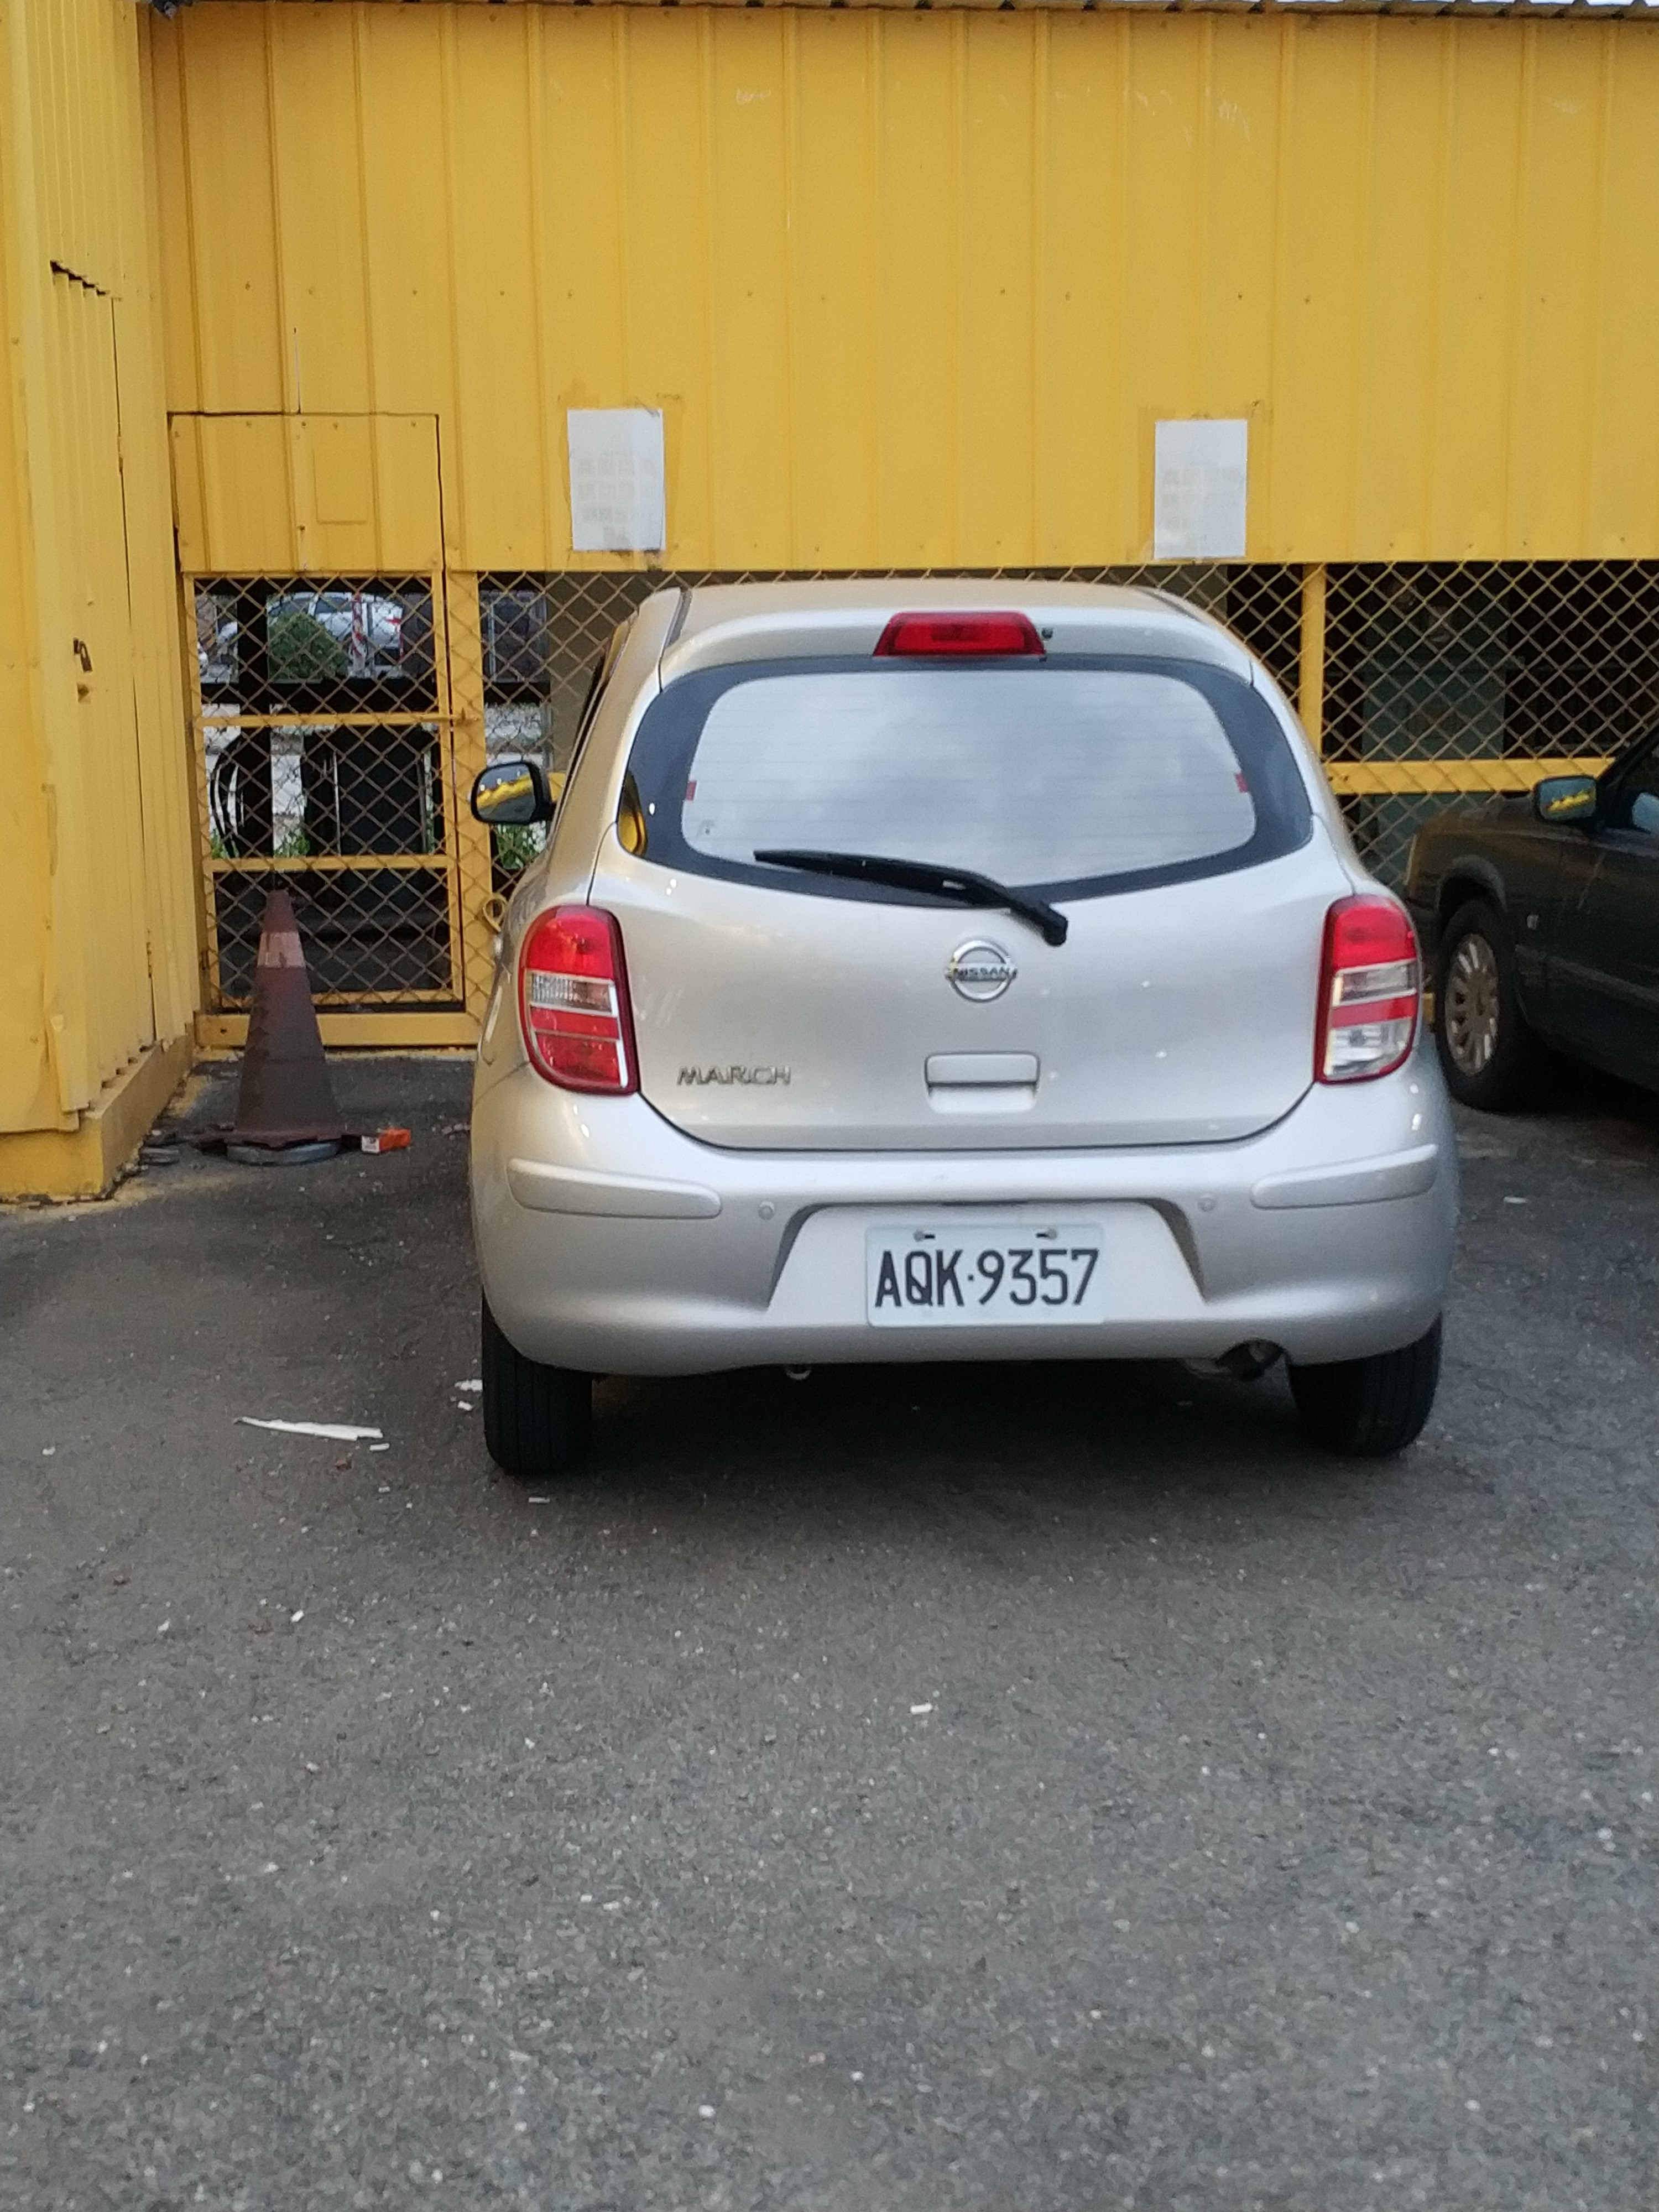car: (462, 573, 1516, 1496)
car_card: (856, 1219, 1117, 1320)
